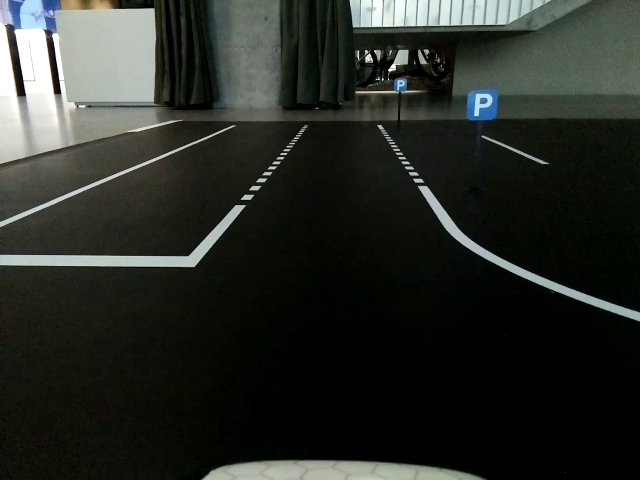park: (466, 91, 499, 121), (395, 78, 407, 91)
